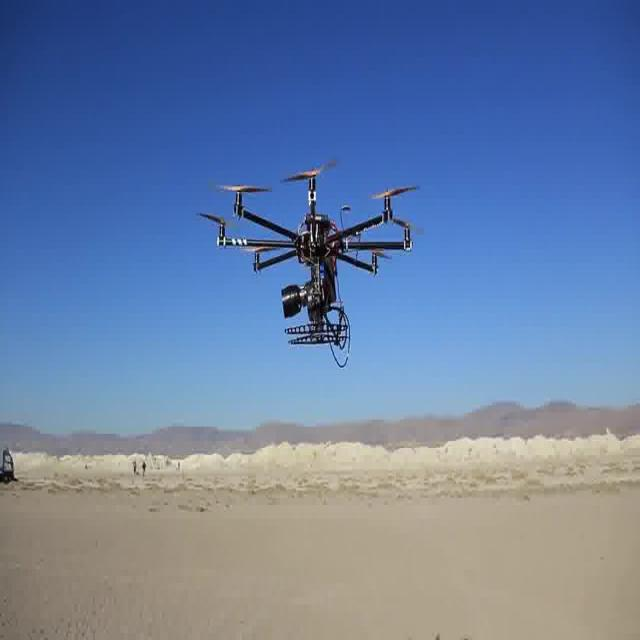drone: (192, 154, 435, 376)
